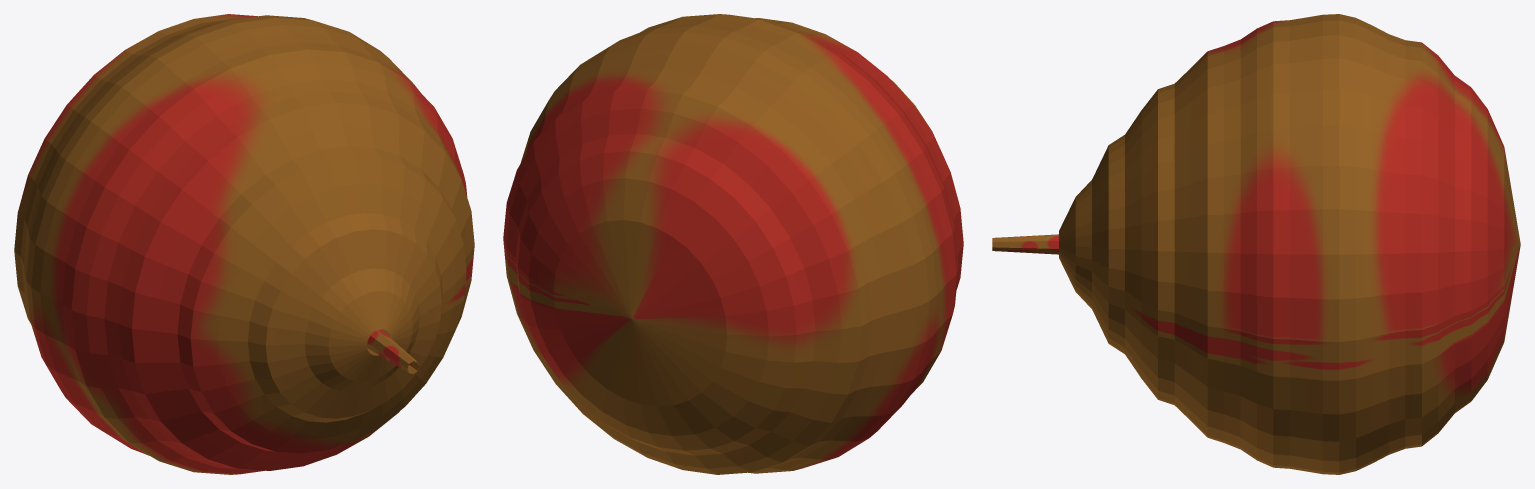
The model's file is apple_02_realistic.obj.
3 renders of one model, left to right at view 1: azimuth 30°, elevation 25°; view 2: azimuth 150°, elevation 25°; view 3: azimuth 270°, elevation 25°, orthographic. The views are drawn at different scales.
Size of the model in its own units: 2 by 2 by 2.29.
1 material, 1 textured.
